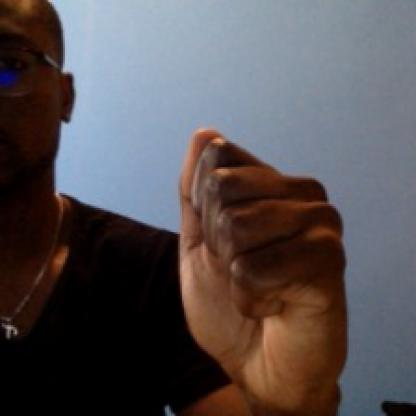BACKWARD: (146, 111, 365, 408)
